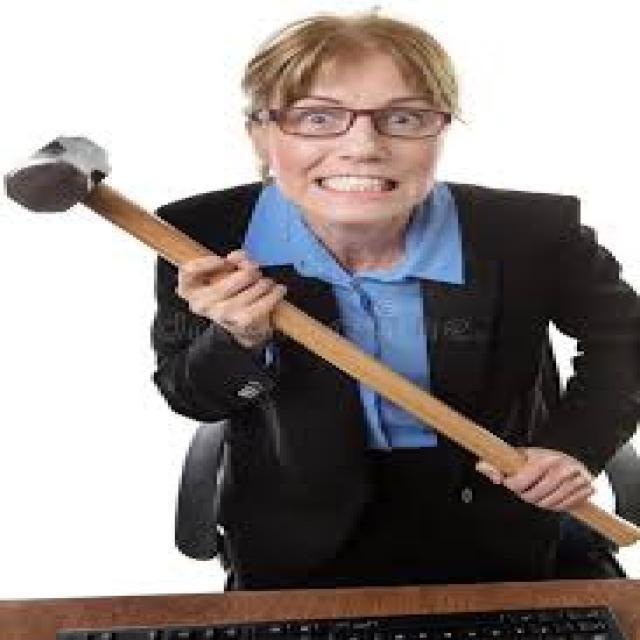hammer: (0, 132, 640, 548)
